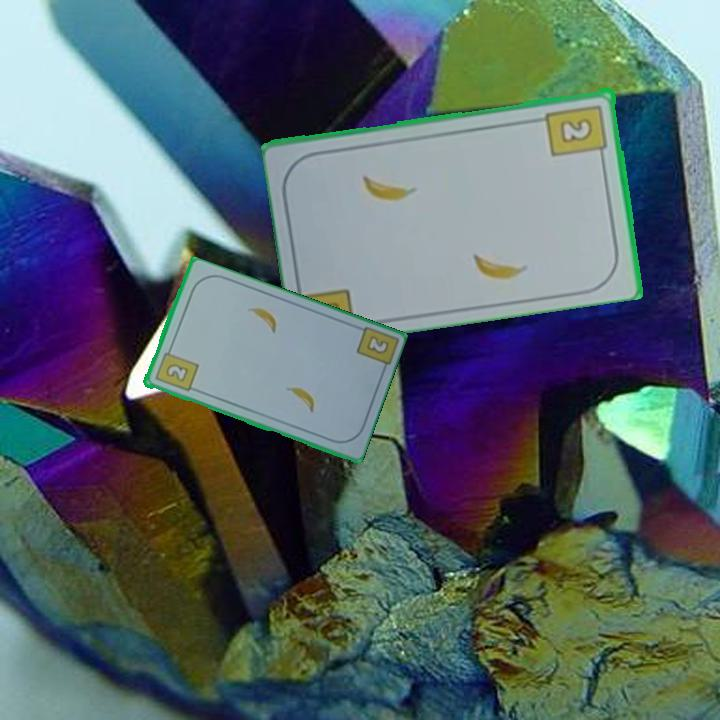2b: (543, 100, 610, 162), (151, 344, 201, 394), (352, 323, 398, 377)
